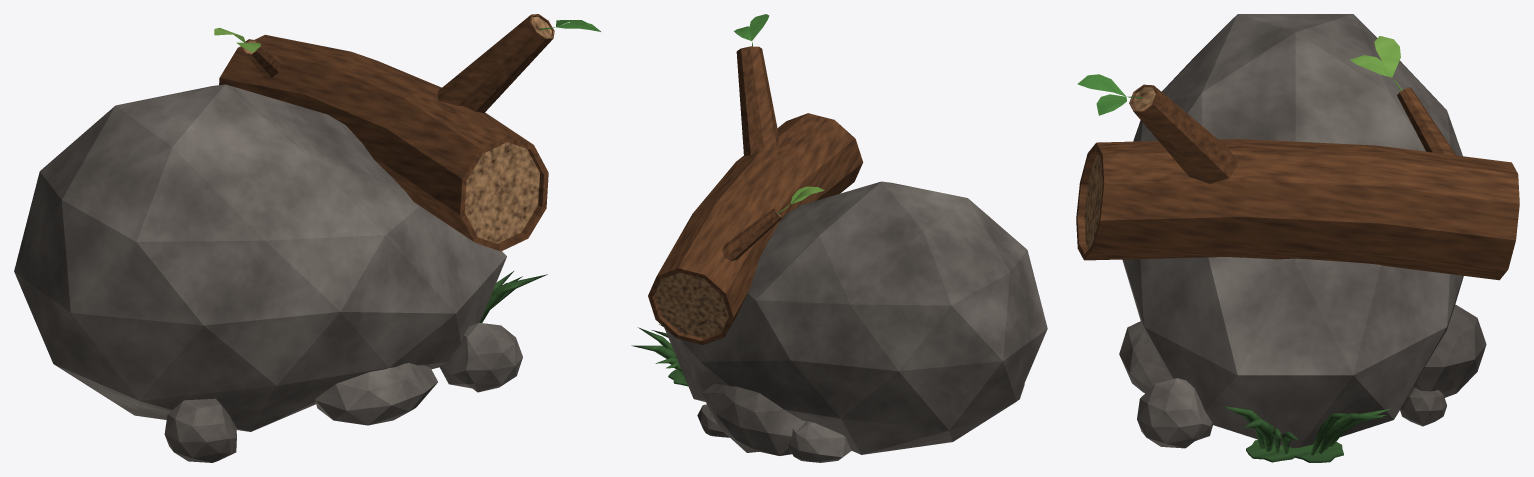
File: BatuPohon.fbx
3 renders of one model, left to right at view 1: azimuth 30°, elevation 25°; view 2: azimuth 150°, elevation 25°; view 3: azimuth 270°, elevation 25°, orthographic. The views are drawn at different scales.
Parts seen in each view (by area): view 1: BatuPohon; view 2: BatuPohon; view 3: BatuPohon.
Boxes of the visible parts, box(x1,y1,x2,y2) form: BatuPohon: box(14, 14, 600, 462); BatuPohon: box(631, 14, 1047, 462); BatuPohon: box(1076, 14, 1519, 462).
Size of the model in its own units: 302 by 232 by 237.
Materials: 1 (1 with a texture image).
